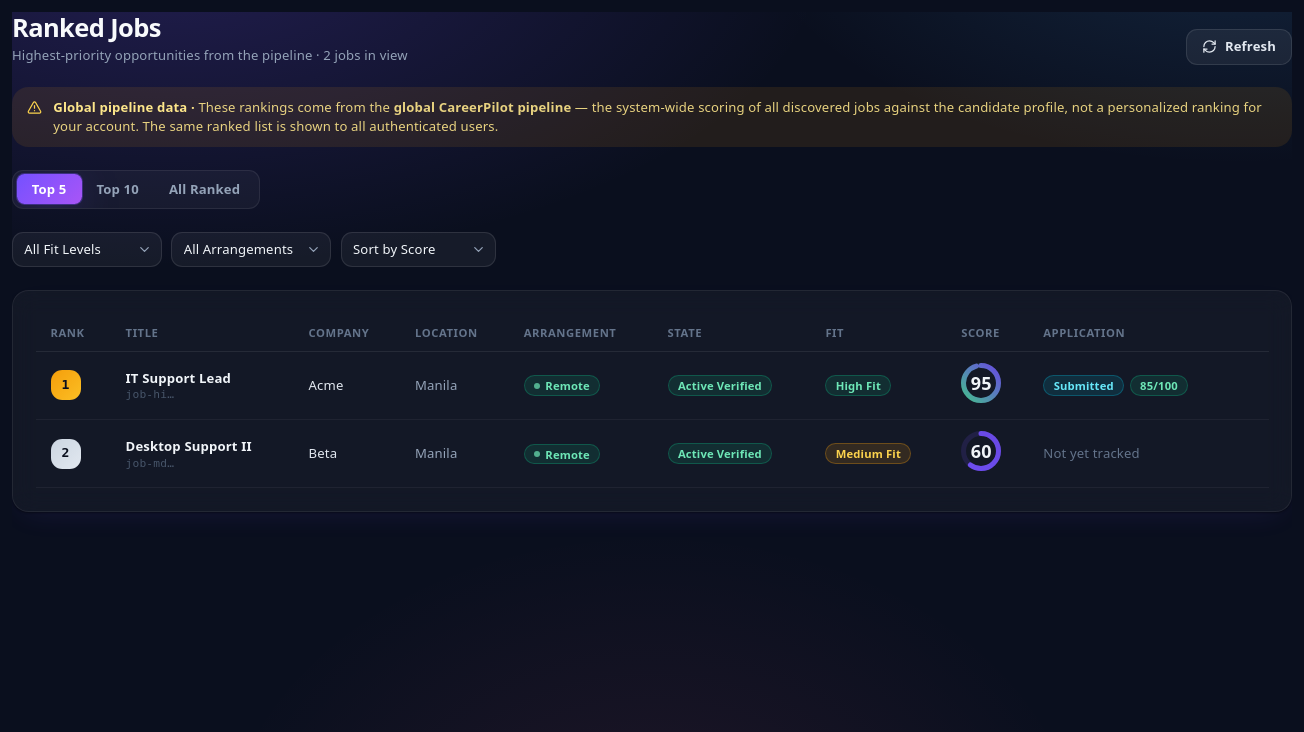
it: RankedJobs › switches to All Ranked and shows the wider set
Click the tab "All Ranked". click: (205,189)
box: [154,174,255,204]
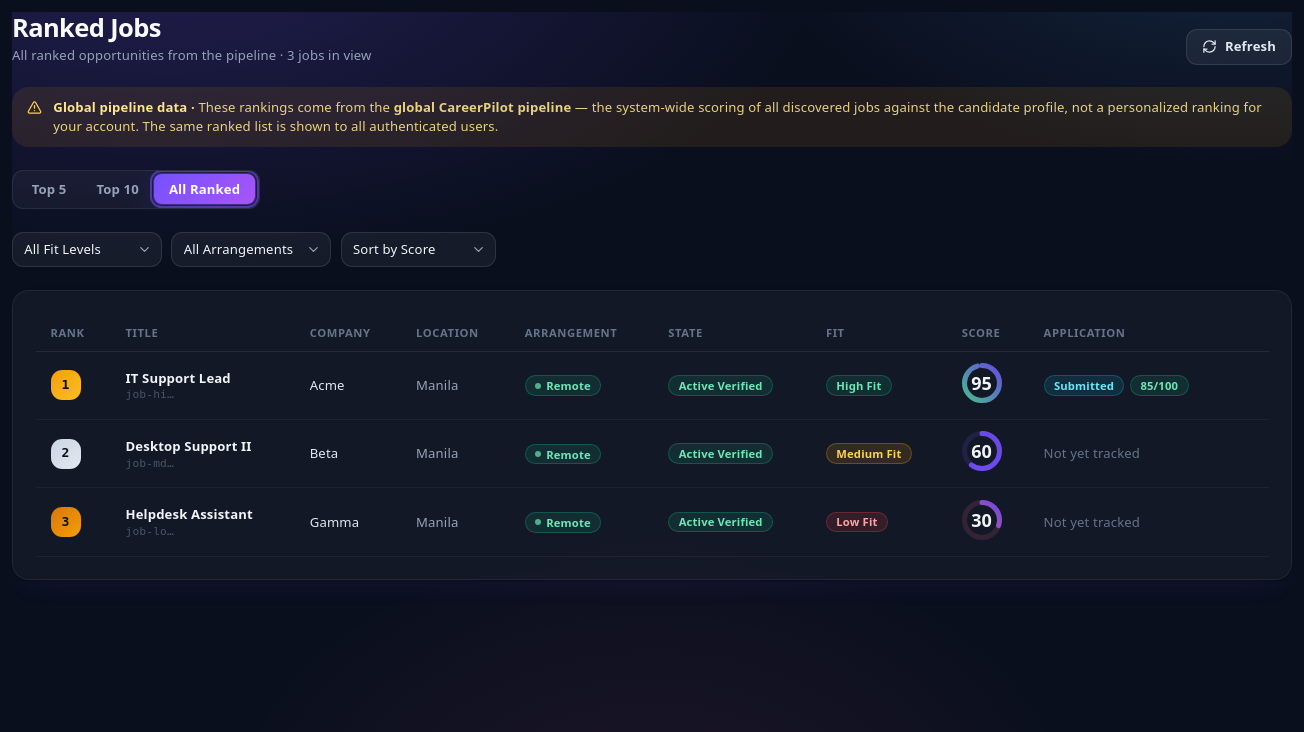
Check: the text "All ranked opportunities from the pipeline · 3 jobs in view" is shown, box [12,46,372,65]
Check: the link "Helpdesk Assistant" is shown, box [126,505,253,523]
